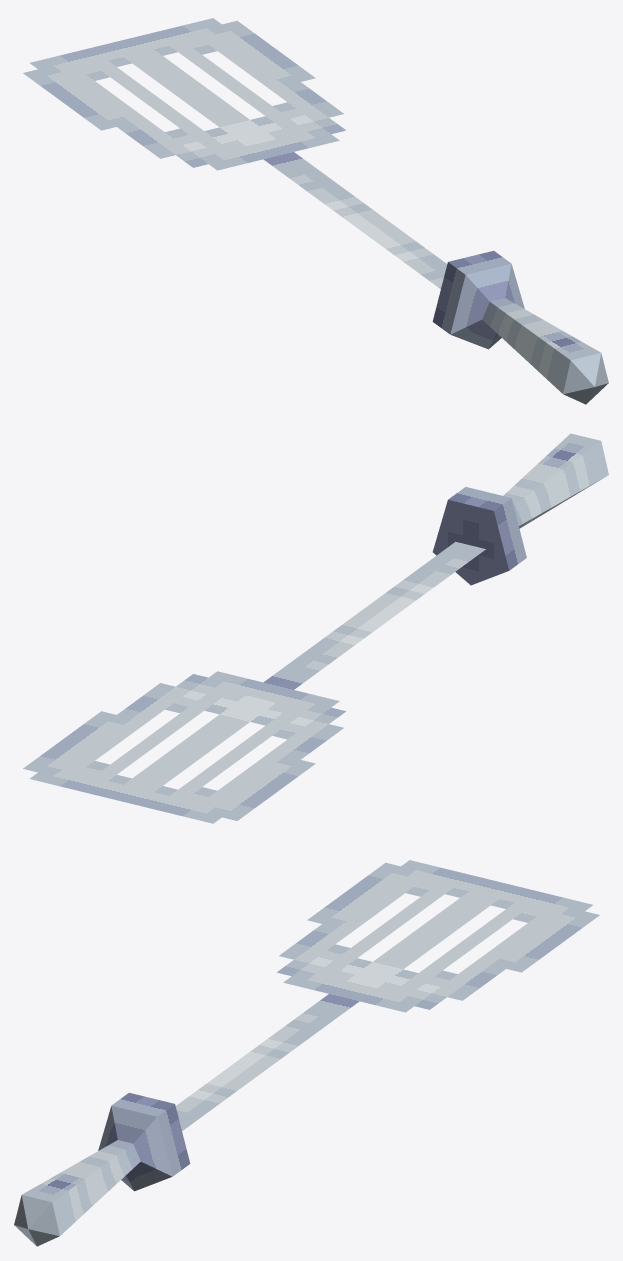
File: spatula.fbx
3 views of the same model, one above another, from view 1: azimuth 30°, elevation 25°; view 2: azimuth 150°, elevation 25°; view 3: azimuth 330°, elevation 25° (orthographic).
Parts seen in each view (by area): view 1: spatula; view 2: spatula; view 3: spatula.
Boxes of the visible parts, bbox=[...] form: spatula: bbox=[23, 18, 608, 404]; spatula: bbox=[23, 433, 608, 823]; spatula: bbox=[14, 860, 599, 1246].
Bounding box in the file's own units: 2800 × 1000 × 10700.
Materials: 1 (1 with a texture image).
